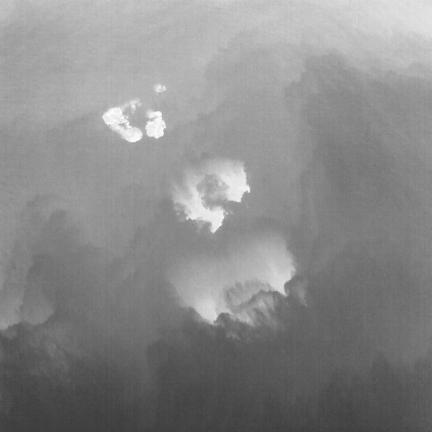flukeprints: (173, 186, 225, 231), (219, 165, 250, 202), (103, 107, 128, 131), (146, 110, 165, 138), (120, 127, 142, 142)
